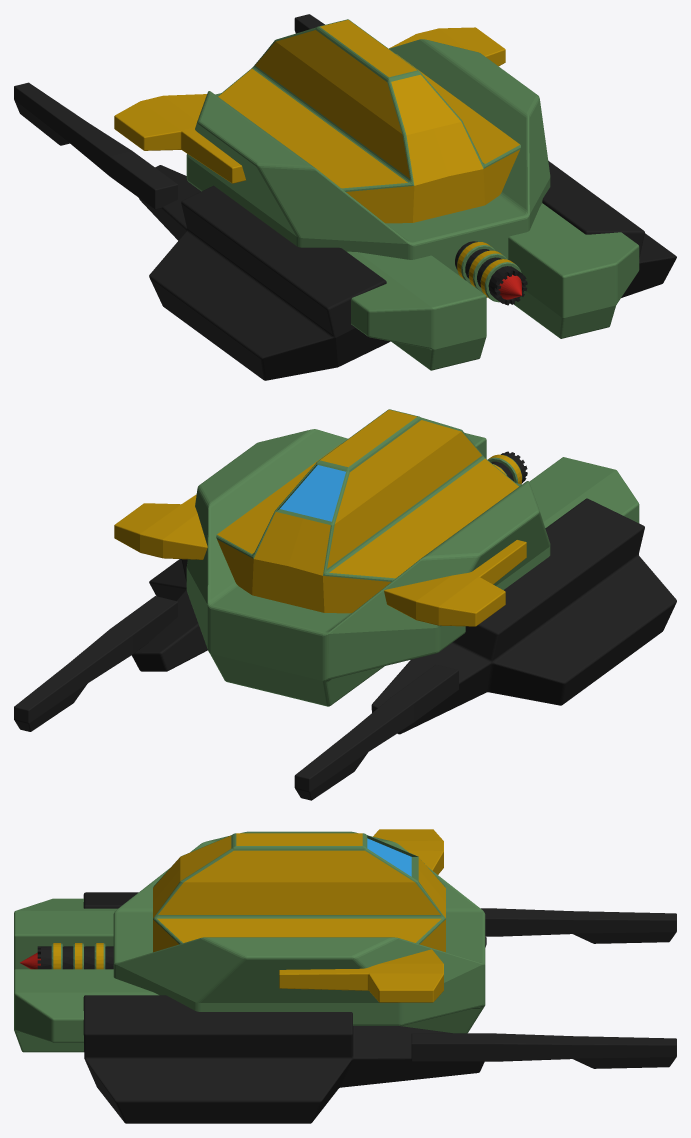
File: Spaceship_09_Merged.fbx
3 views of the same model, one above another, from view 1: azimuth 30°, elevation 25°; view 2: azimuth 150°, elevation 25°; view 3: azimuth 270°, elevation 25° (orthographic). The views are drawn at different scales.
Visible parts, largest first — view 1: Spaceship_09_Merged; view 2: Spaceship_09_Merged; view 3: Spaceship_09_Merged.
Boxes of the visible parts, x1=… form: Spaceship_09_Merged: x1=14, y1=14, x2=676, y2=380; Spaceship_09_Merged: x1=14, y1=409, x2=676, y2=800; Spaceship_09_Merged: x1=14, y1=829, x2=676, y2=1123.
Bounding box in the file's own units: 316 × 155 × 478.
